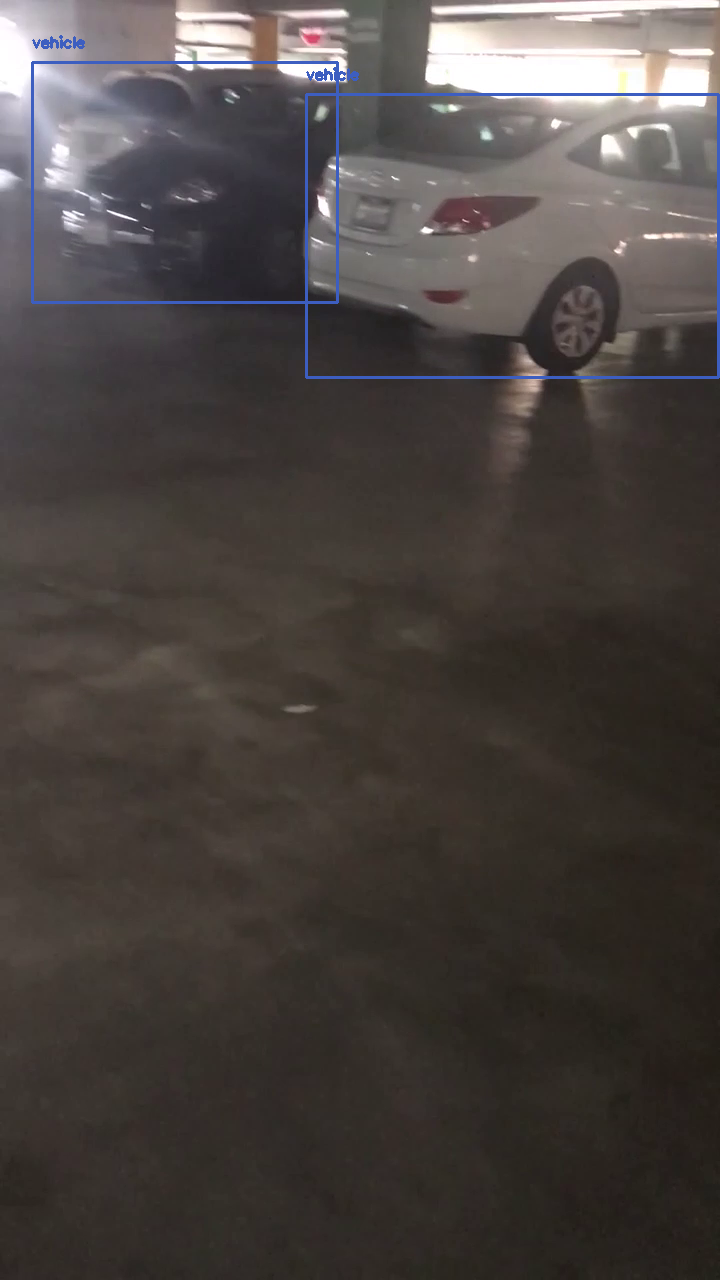vehicle: (306, 94, 718, 377), (32, 62, 337, 302)
